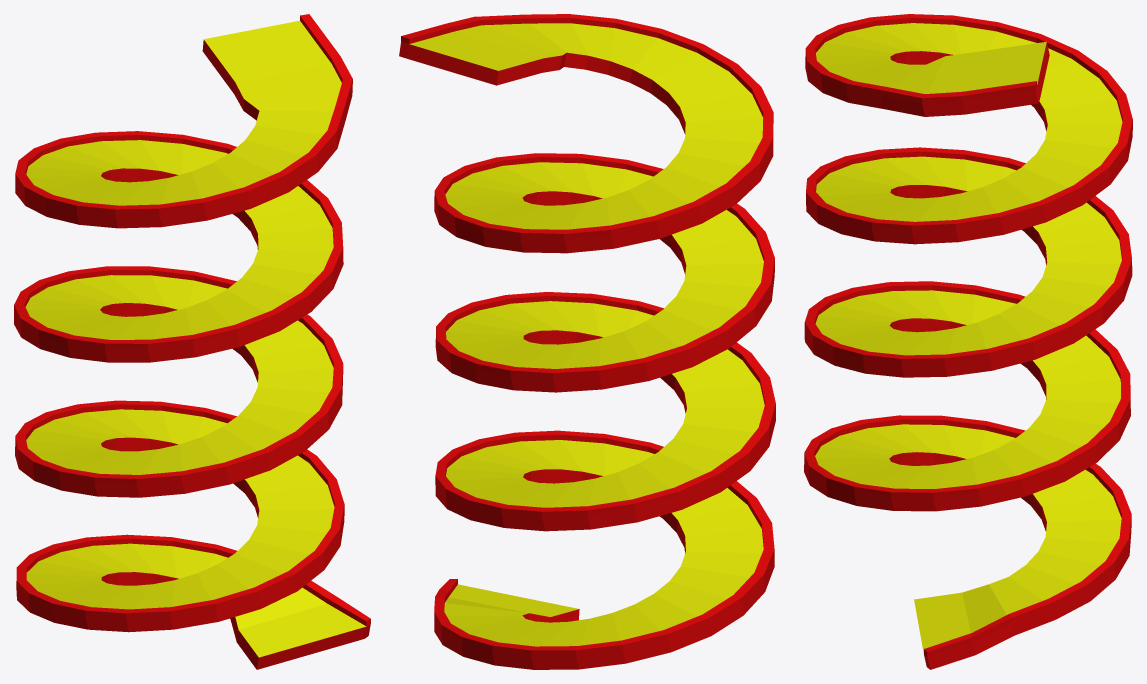
File: SM_WaterShape_Corkskrew_001.fbx
The picture shows the model from 3 angles, left to right: view 1: azimuth 30°, elevation 25°; view 2: azimuth 150°, elevation 25°; view 3: azimuth 270°, elevation 25°; orthographic projection. The views are drawn at different scales.
Parts seen in each view (by area): view 1: Cube.023, Cube.014; view 2: Cube.023, Cube.014; view 3: Cube.023, Cube.014.
Part boxes in pixels (x1,y1,x2,y2): Cube.023: (25,20,366,657); Cube.014: (14,14,370,669); Cube.023: (409,23,764,646); Cube.014: (399,14,775,669); Cube.023: (815,23,1122,653); Cube.014: (804,14,1132,669).
Bounding box in the file's own units: 1413 × 2519 × 1290.
